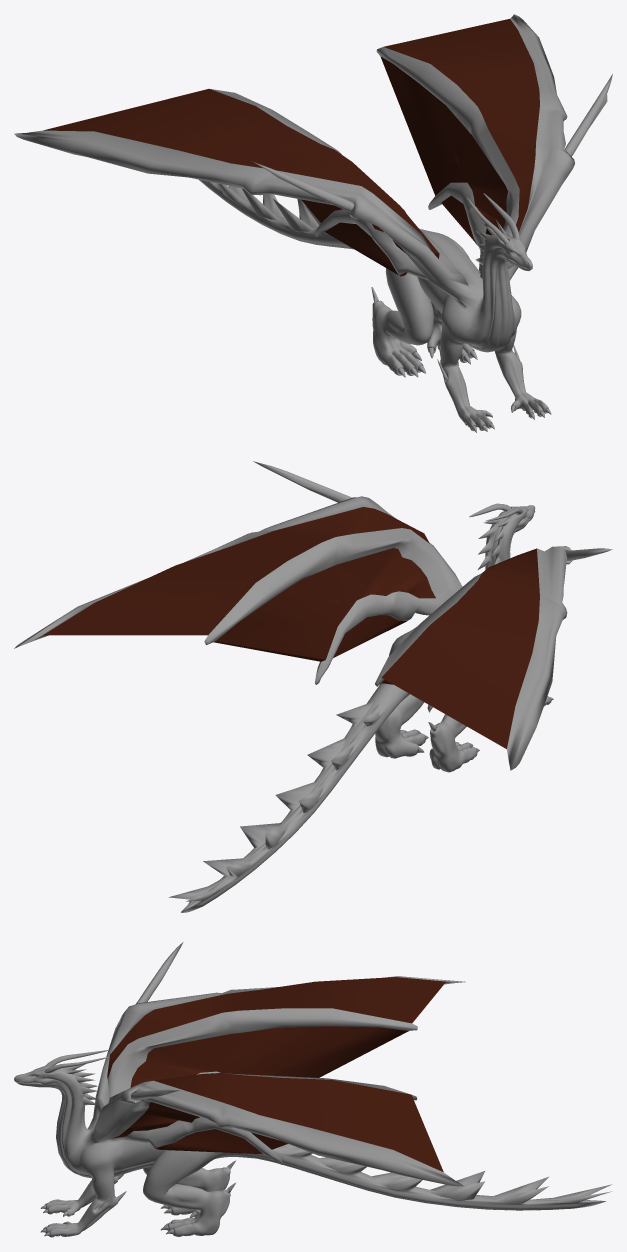
The model's file is dragon.obj.
The picture shows the model from 3 angles, top to bottom: view 1: azimuth 30°, elevation 25°; view 2: azimuth 150°, elevation 25°; view 3: azimuth 270°, elevation 25°; orthographic projection. The views are drawn at different scales.
Parts seen in each view (by area): view 1: Cube; view 2: Cube; view 3: Cube.
Boxes of the visible parts, x1,y1,x2,y2 form: Cube: (14, 14, 612, 432); Cube: (14, 461, 612, 912); Cube: (14, 942, 612, 1237).
Size of the model in its own units: 13.66 by 6.48 by 16.91.
